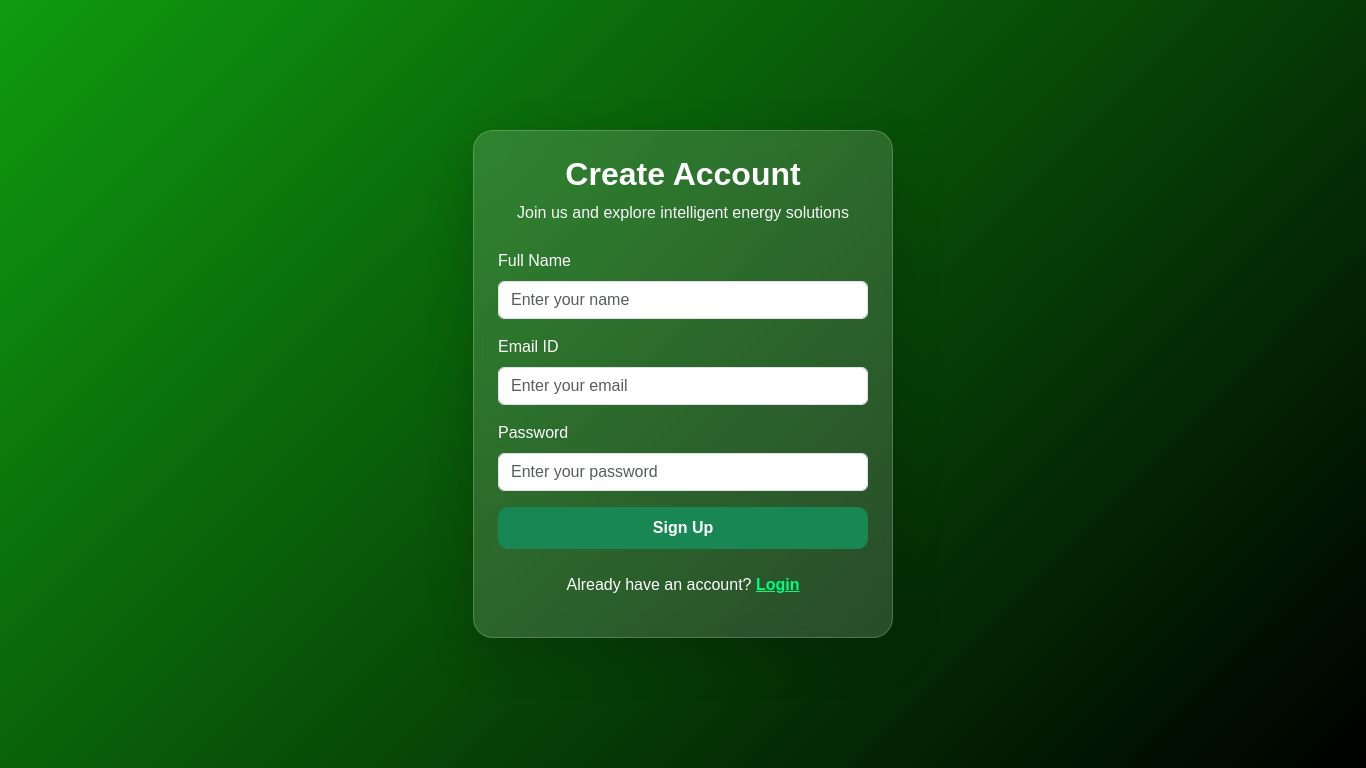
Scenario: Signup Component › successfully signs up new user
In the field with placeholder "Enter your name": (683, 300) [498,281,868,319], type "New User"
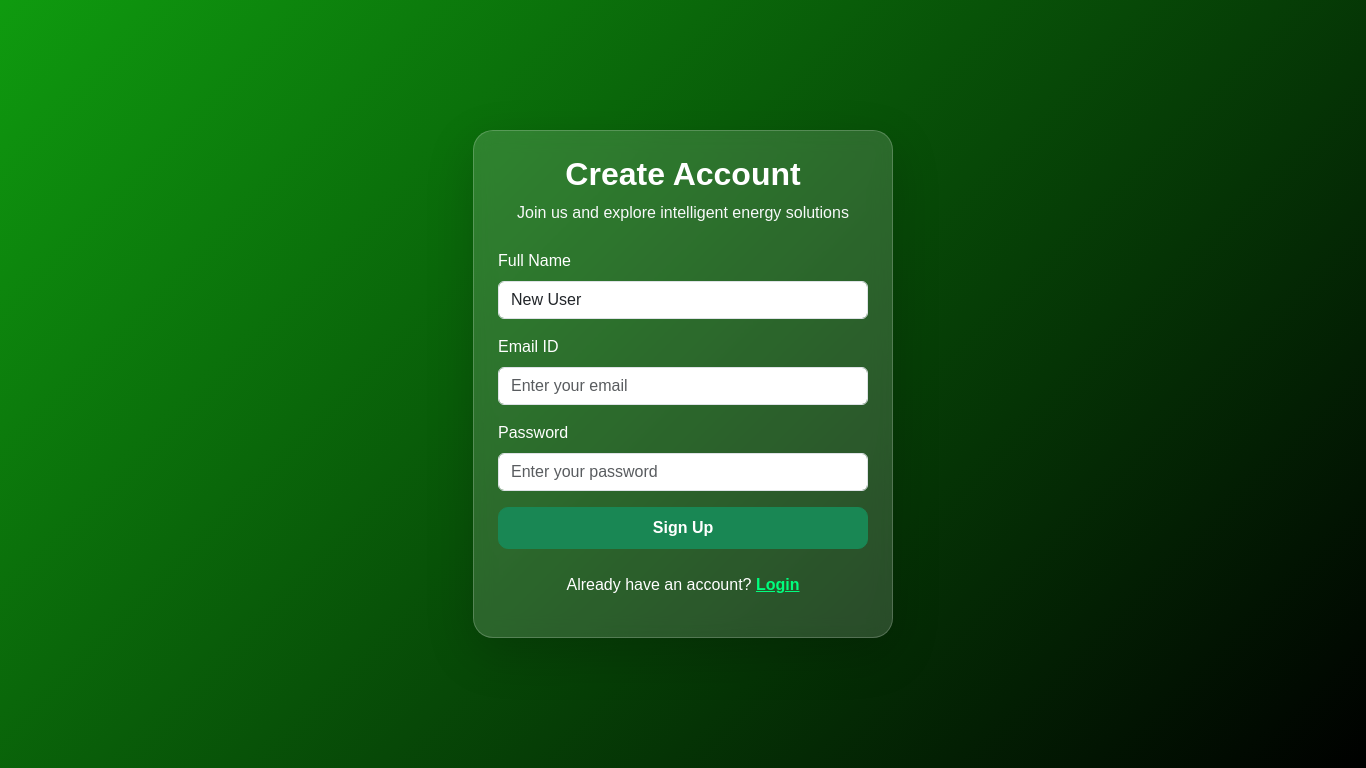
In the field with placeholder "Enter your email": (683, 386) [498,367,868,405], type "new@example.com"
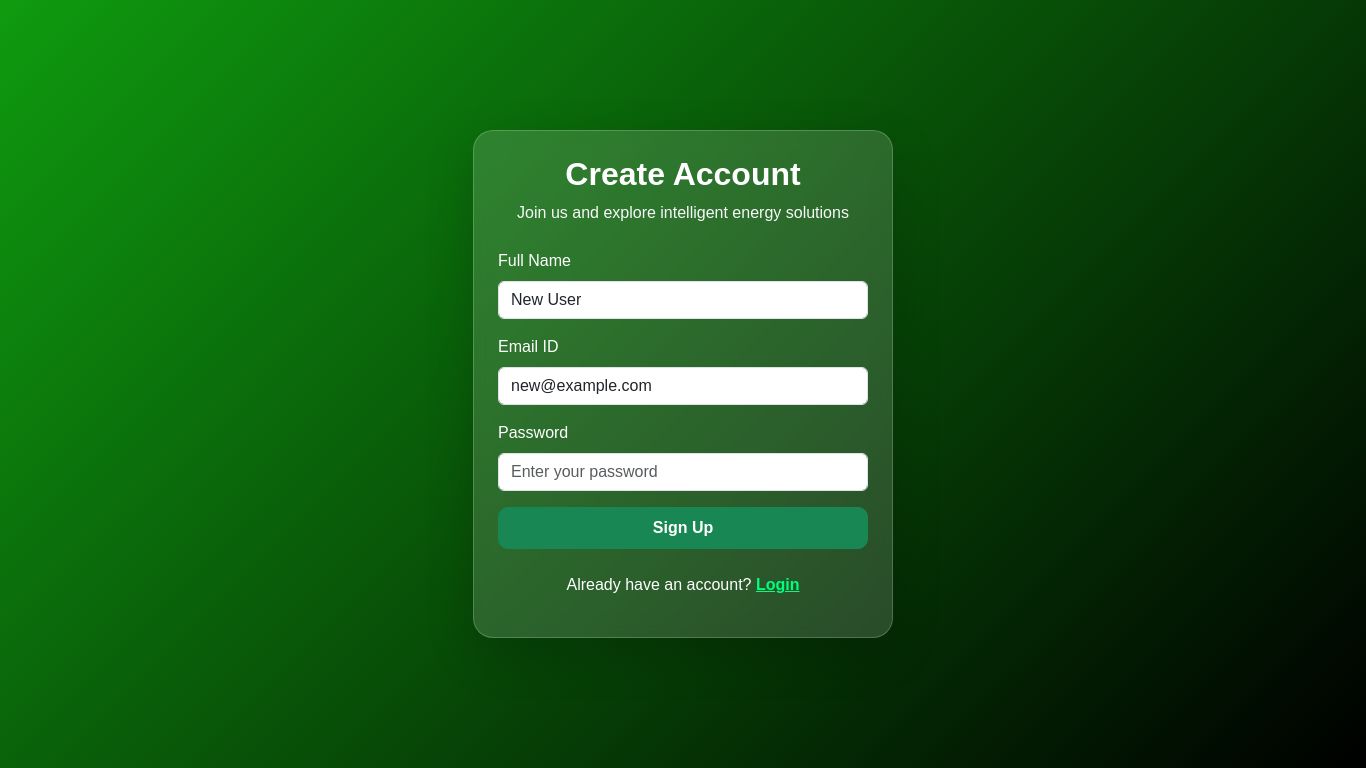
In the password field with placeholder "Enter your password": (683, 472) [498,453,868,491], type "test-password"
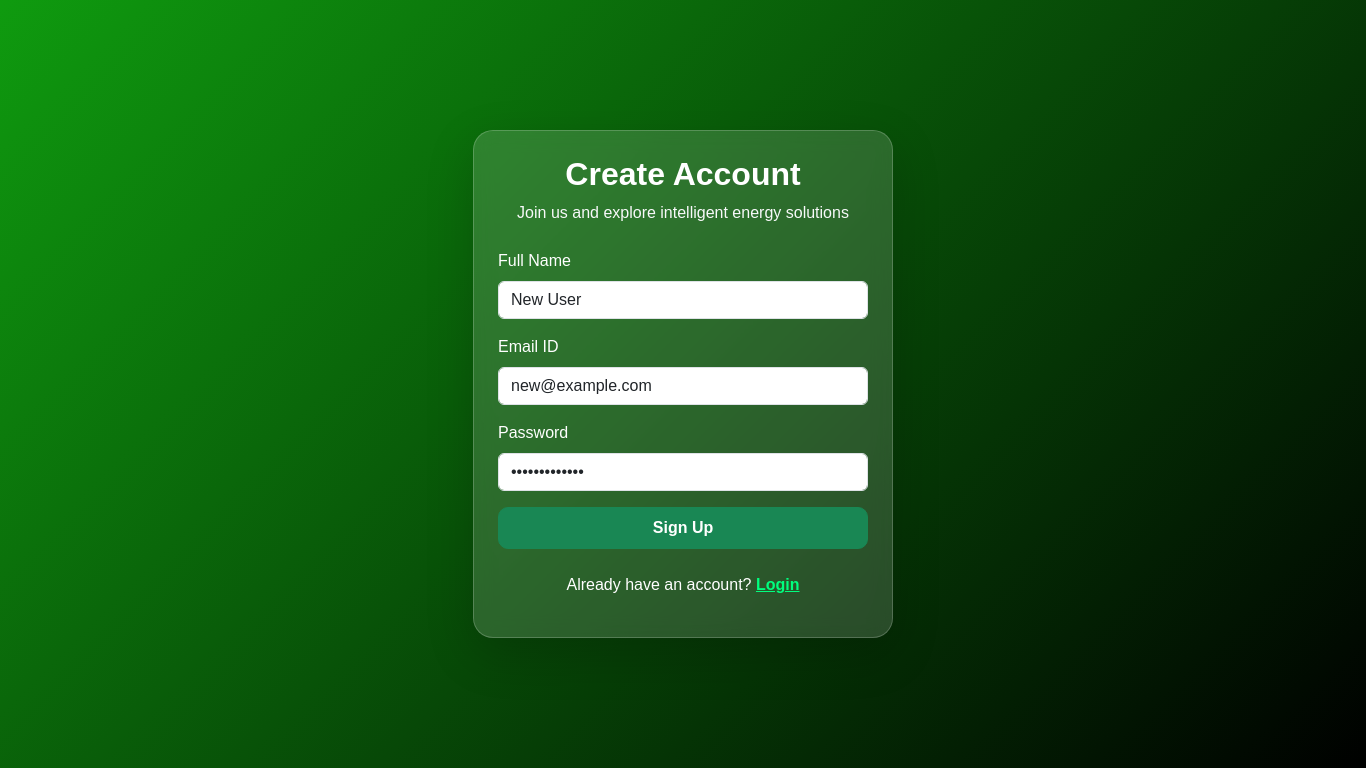
Click the button "Sign Up": (683, 528) [498,507,868,549]
Wait 1500 ms
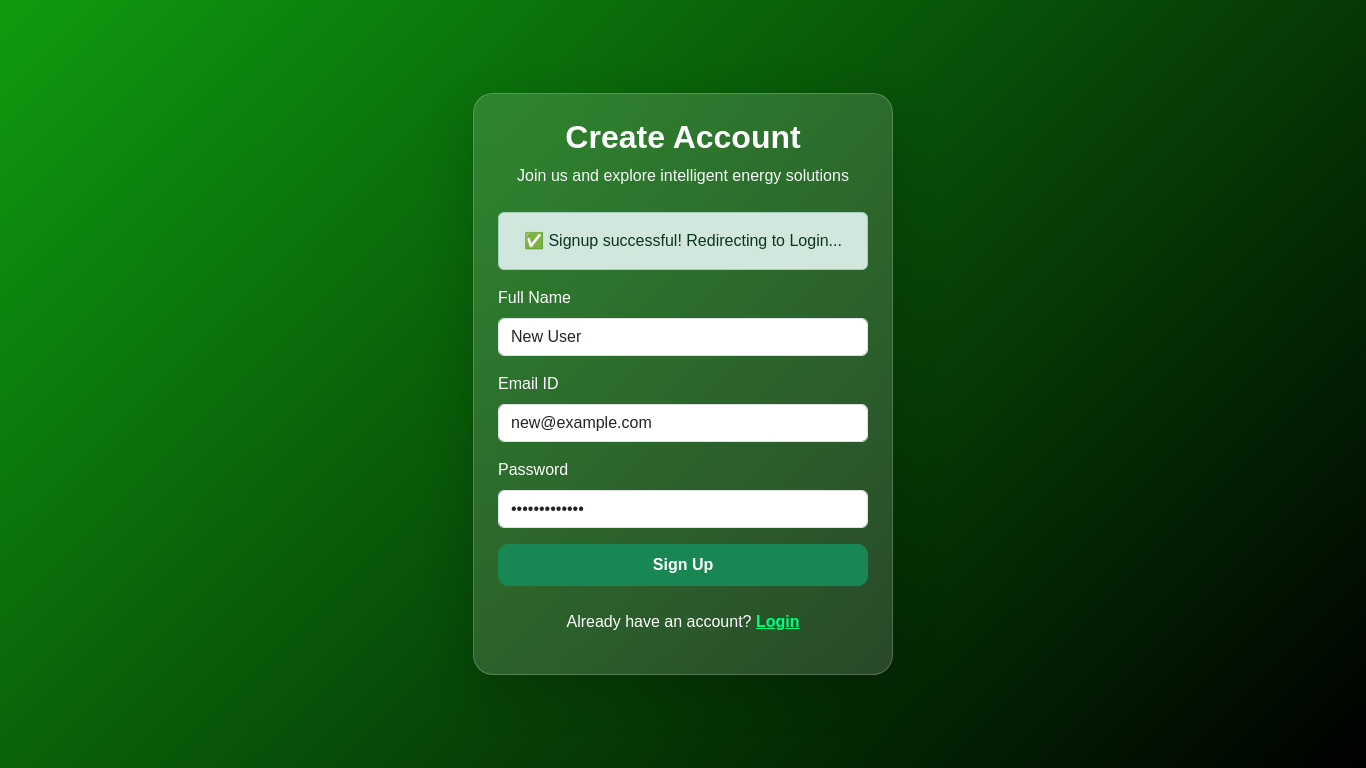
Expected: the text "✅ Signup successful! Redirecting to Login..." is shown, [498,212,868,270]
